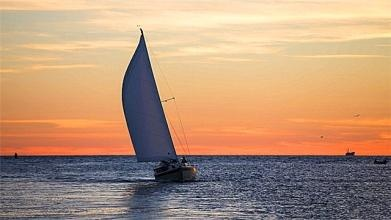fanchuan: (120, 26, 204, 185)
